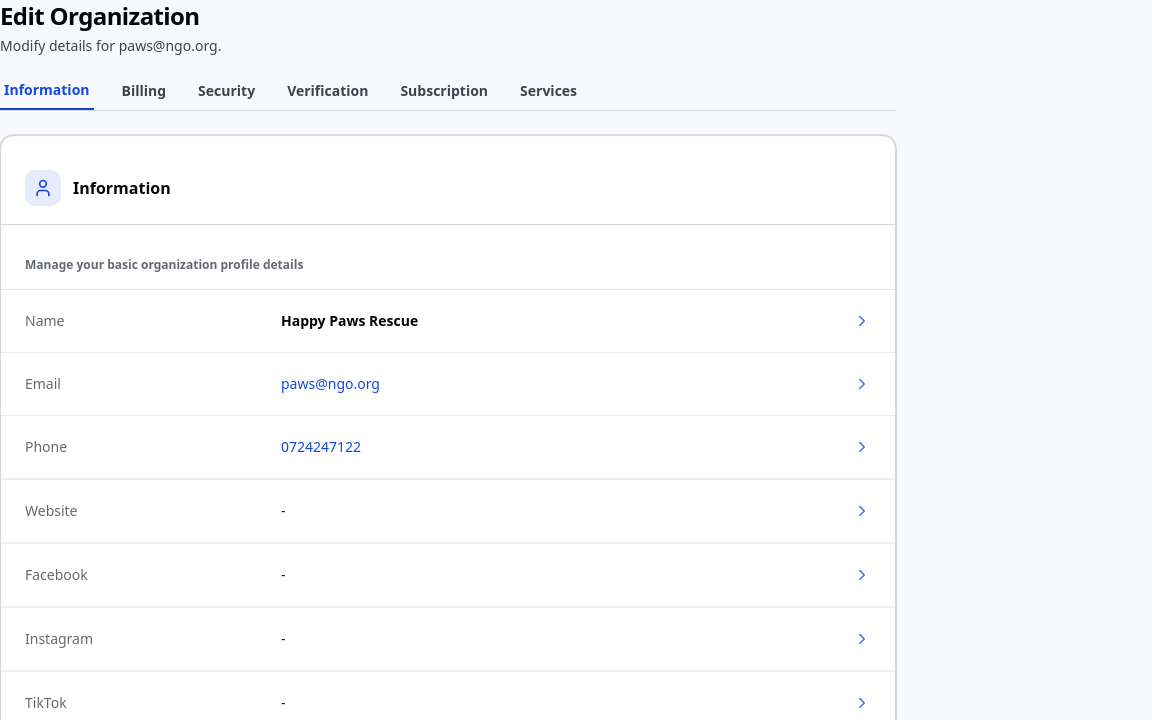
Test case: EditOrganizationForm Component › should open and test password matching logic in Password modal on the Security tab
The width and height of the screenshot is (1152, 720).
// Switch to Security tab first
Click the button "Security" at (227, 95), box x1=194 y1=80 x2=259 y2=110
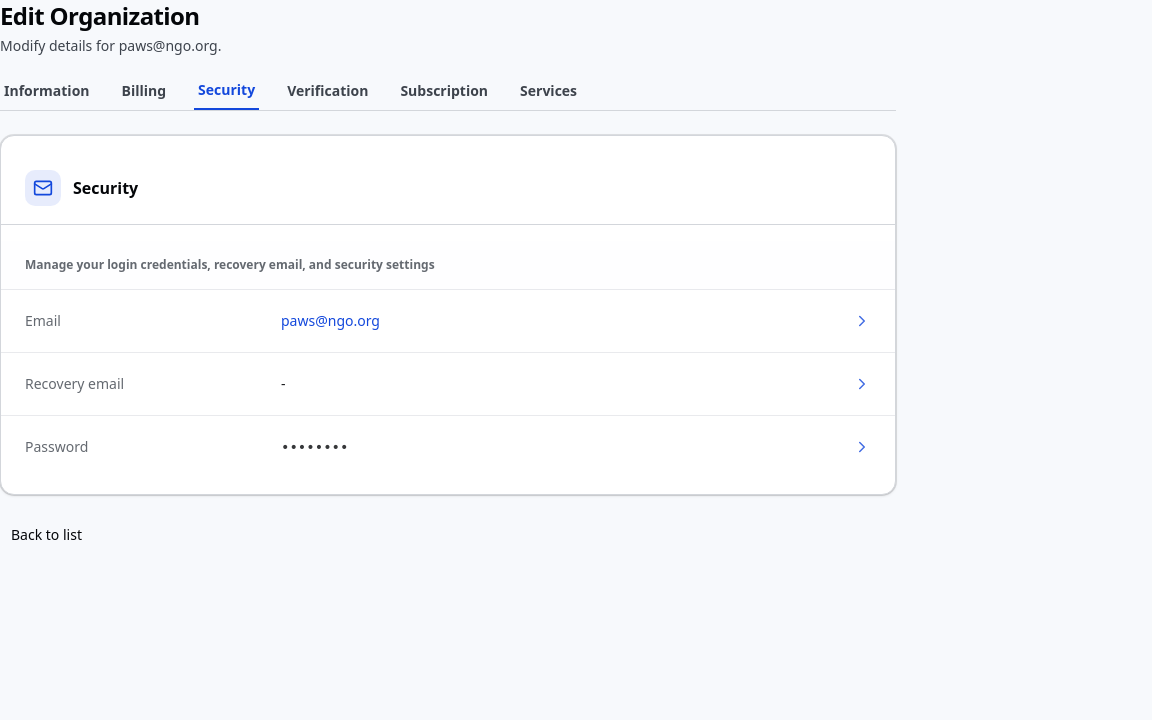
// Click the Edit button corresponding to Password row
Click the button named "Edit Password" at (862, 447), box x1=847 y1=432 x2=877 y2=462
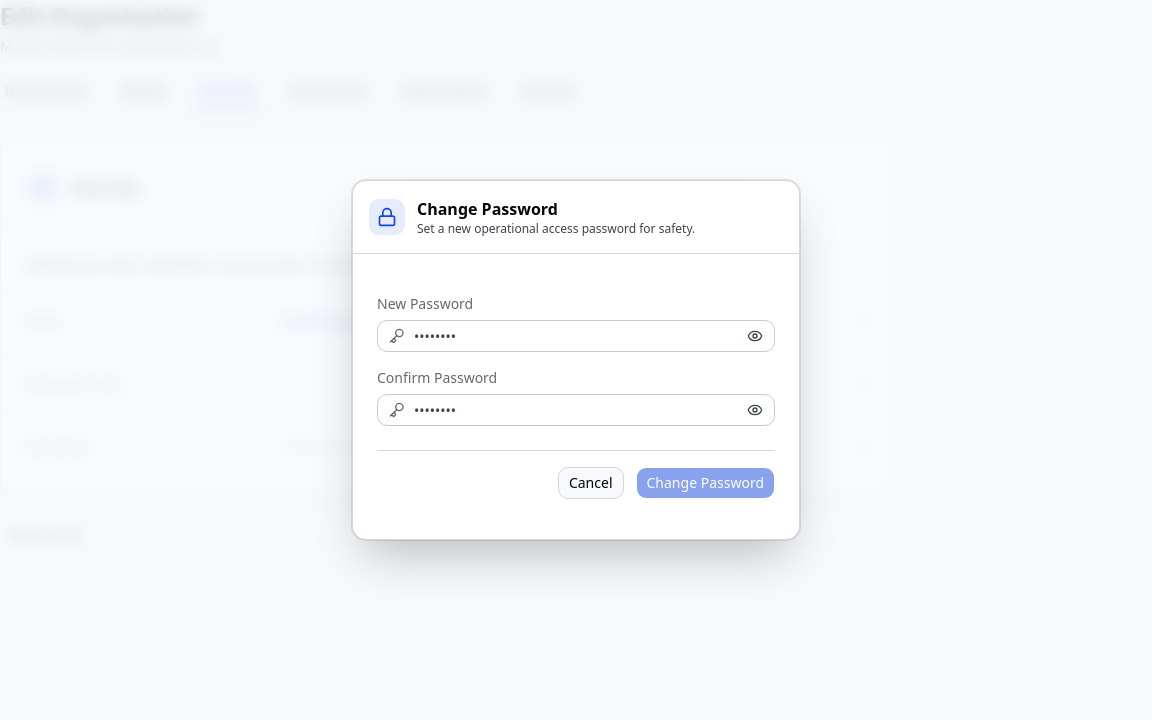
Expected: the button "Change Password" is disabled, x1=636 y1=467 x2=775 y2=499
// Enter mismatching passwords
Type "password123" into the password field labelled "New Password" at (576, 336), box x1=377 y1=320 x2=775 y2=352
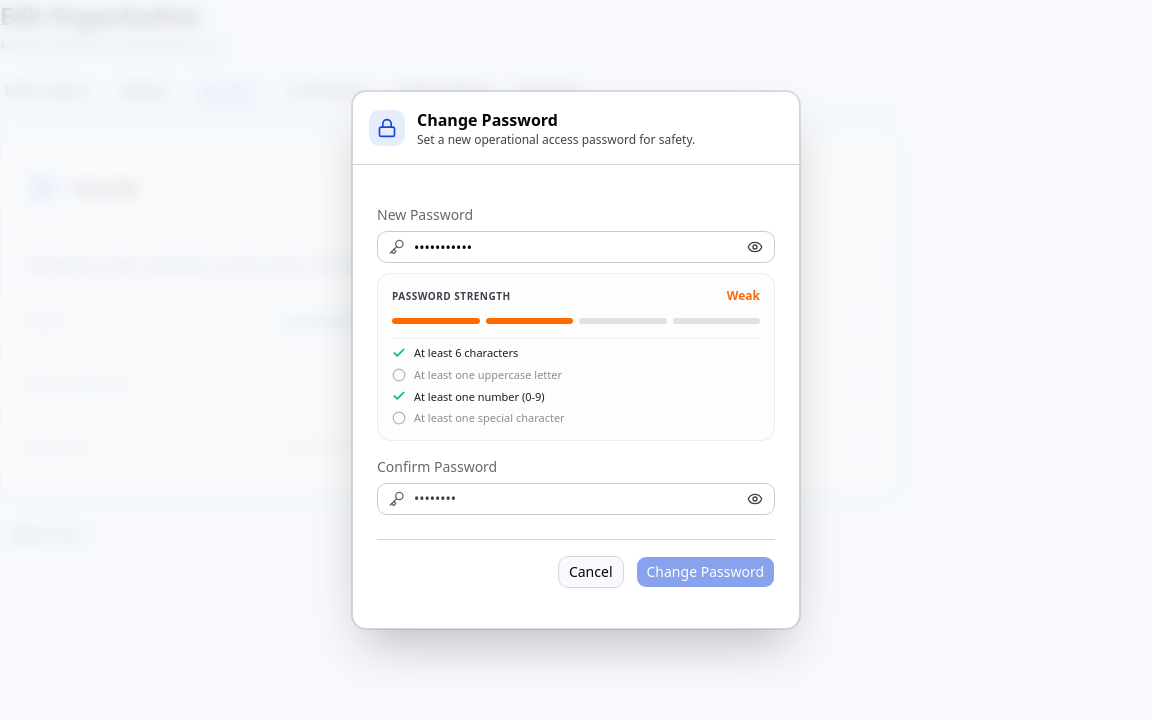
Type "different123" into the password field labelled "Confirm Password" at (576, 499), box x1=377 y1=483 x2=775 y2=515
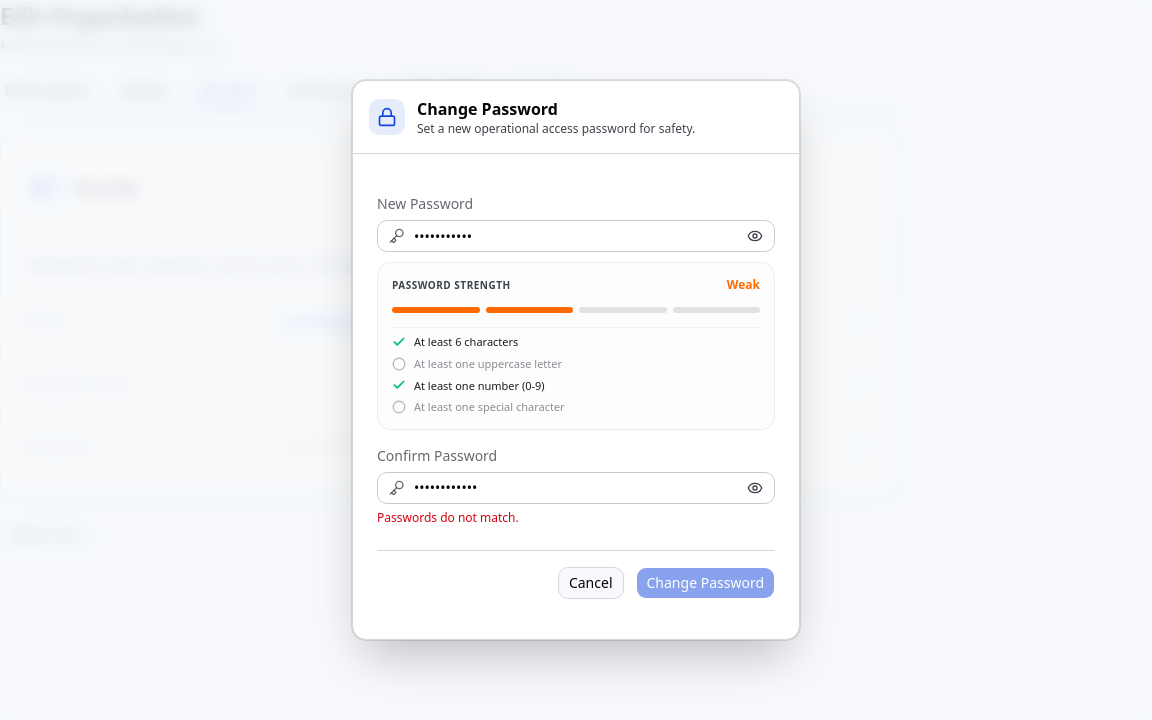
Expected: the button "Change Password" is disabled, x1=636 y1=567 x2=775 y2=599
Expected: the text "Passwords do not match." is shown, x1=377 y1=509 x2=519 y2=526
// Enter matching passwords
Type "password123" into the password field labelled "Confirm Password" at (576, 488), box x1=377 y1=472 x2=775 y2=504
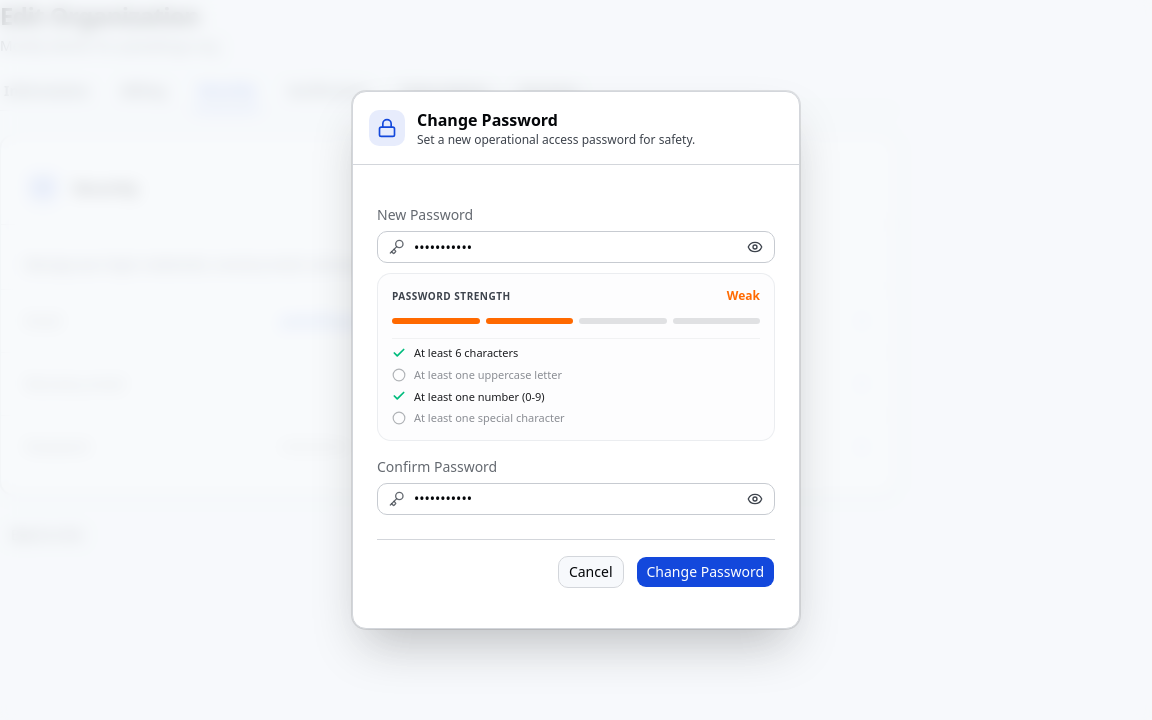
Expected: the text "Passwords do not match." is gone
Expected: the button "Change Password" is enabled, x1=636 y1=556 x2=775 y2=588
